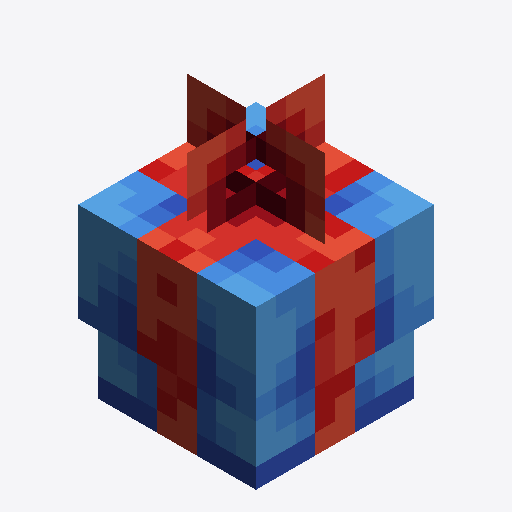
Isometric view (azimuth 45°, elevation 35.3°) of a Minecraft model made of 4 cuboids, textured from the same repository.
Visible parts, largest first — element 3, element 2, element 1, element 4.
Part boxes in pixels (bbox=[...]): element 3: bbox=[78, 102, 433, 420]; element 2: bbox=[98, 330, 413, 489]; element 1: bbox=[187, 74, 324, 243]; element 4: bbox=[187, 74, 324, 232].
Bounding box in the file's own units: 9 × 12.5 × 9.